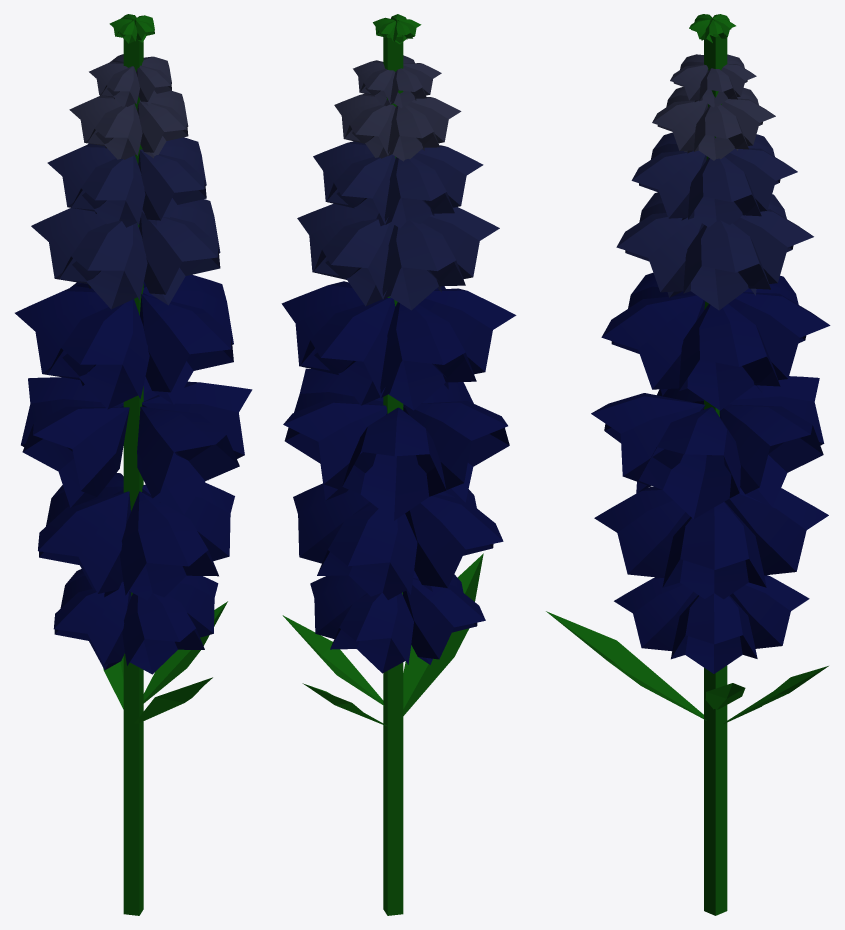
Rendered from flower2.obj.
3 views of the same model, side by side, from view 1: azimuth 30°, elevation 25°; view 2: azimuth 150°, elevation 25°; view 3: azimuth 270°, elevation 25° (orthographic).
Parts seen in each view (by area): view 1: polySurface52; view 2: polySurface52; view 3: polySurface52.
Part boxes in pixels (x1,y1,x2,y2): polySurface52: (15,14,252,915); polySurface52: (281,14,516,915); polySurface52: (546,14,830,915).
Bounding box in the file's own units: 1.13 × 4.56 × 1.32.
